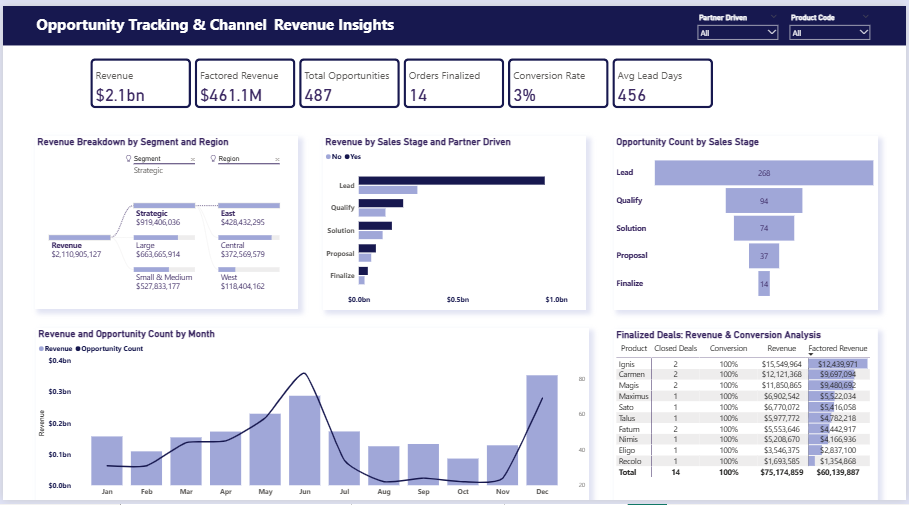

This screenshot's page, from the dashboard's own definition file:
{"tool":"powerbi","page":{"name":"Duplicate of Oppertunity  Overview","canvas":[1920,1100],"ordinal":0},"visuals":[{"type":"shape","box":[0,0,1920,83.6],"z":0},{"type":"textbox","box":[65.7,11.4,922.9,64.3],"z":1000},{"type":"slicer","fields":{"Values":["Product.Product Code"]},"box":[1662.9,11.4,191.4,70],"z":2000},{"type":"slicer","fields":{"Values":["Partner.Partner Driven"]},"box":[1467.1,11.4,191.4,71.4],"z":3000},{"type":"decompositionTreeVisual","title":"Revenue Breakdown by Segment and Region","fields":{"Analyze":["Fact.Revenue"],"ExplainBy":["Account.Segment","Account.Region"]},"box":[68.2,276.2,560,368],"z":4000},{"type":"lineStackedColumnComboChart","fields":{"Y":["Fact.Revenue"],"Y2":["Fact.Opportunity Count"],"Category":["Fact.Month"]},"box":[69.4,685.5,1175.8,368],"z":5000},{"type":"funnel","fields":{"Category":["Sales Stage.Sales Stage"],"Y":["Fact.Opportunity Count"]},"box":[1298.6,275.7,561.4,368.6],"z":6000},{"type":"clusteredBarChart","fields":{"Category":["Sales Stage.Sales Stage"],"Series":["Partner.Partner Driven"],"Y":["Fact.Revenue"]},"box":[680,275.7,560,368.6],"z":11000},{"type":"pivotTable","title":"Finalized Deals: Revenue & Conversion Analysis","fields":{"Rows":["Product.Product Code"],"Values":["Fact.Closed Deals","Fact.Conversion Rate","Fact.Revenue","Fact.Factored Revenue"]},"box":[1298.6,685.7,561.4,368.6],"z":12000},{"type":"cardVisual","fields":{"Data":["Fact.Revenue","Fact.Factored Revenue","Fact.Opportunity Count","Fact._Count Finalised","Fact.Conversion Rate","Fact.Avg Opportunity Days"]},"box":[66.7,122,1237.4,116.4],"z":13000}]}

Visuals, with their boxes on the page's 1920x1100 design canvas (x1, y1, x2, y2). These are canvas units, not pixel positions in the 909x505 screenshot, which may show the page scaled, cropped or inside an application window:
shape: 0:0:1920:84
textbox: 66:11:989:76
slicer - Product.Product Code: 1663:11:1854:81
slicer - Partner.Partner Driven: 1467:11:1658:83
"Revenue Breakdown by Segment and Region" decompositionTreeVisual: 68:276:628:644
lineStackedColumnComboChart - Fact.Revenue x Fact.Opportunity Count: 69:686:1245:1054
funnel - Sales Stage.Sales Stage x Fact.Opportunity Count: 1299:276:1860:644
clusteredBarChart - Sales Stage.Sales Stage x Partner.Partner Driven: 680:276:1240:644
"Finalized Deals: Revenue & Conversion Analysis" pivotTable: 1299:686:1860:1054
cardVisual - Fact.Revenue x Fact.Factored Revenue: 67:122:1304:238
